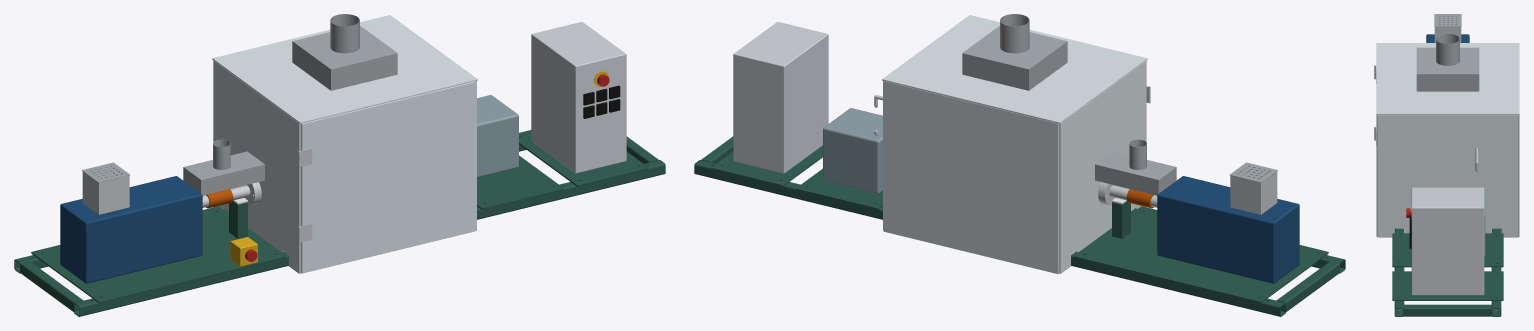
The picture shows the model from 3 angles, left to right: view 1: azimuth 30°, elevation 25°; view 2: azimuth 150°, elevation 25°; view 3: azimuth 270°, elevation 25°; orthographic projection. The views are drawn at different scales.
Parts seen in each view (by area): view 1: Door -Y, polycarbonate 6 mm, interlocked, Control panel enclosure, steel 400 x 300 x 200 (UL 508A prac, Enclosure roof, polycarbonate 6 mm with hood opening, Desktop single-screw extruder, 5/8 in screw (bought module), Enclosure panel -X end, polycarbonate 6 mm, P1 extruder plate, steel plate 6 mm, Base frame rail front, SHS 40 x 3, Exhaust hood, galvanised steel 1 mm folded, Linear diaphragm air pump, 200 NL/min at 20 kPa (Hiblow HP-2, P5 air pump plate, steel plate 6 mm, Extruder fume hood, galvanised steel 1 mm, branch to the exh, P6 control panel plate, steel plate 6 mm (+7 smaller); view 2: Enclosure panel back +Y, polycarbonate 6 mm, Control panel enclosure, steel 400 x 300 x 200 (UL 508A prac, Enclosure roof, polycarbonate 6 mm with hood opening, Desktop single-screw extruder, 5/8 in screw (bought module), Enclosure panel -X end, polycarbonate 6 mm, P1 extruder plate, steel plate 6 mm, Linear diaphragm air pump, 200 NL/min at 20 kPa (Hiblow HP-2, Base frame rail rear, SHS 40 x 3, Exhaust hood, galvanised steel 1 mm folded, Extruder fume hood, galvanised steel 1 mm, branch to the exh, Extruder feed hopper (part of the module), P6 control panel plate, steel plate 6 mm (+6 smaller); view 3: Enclosure panel +X end, polycarbonate 6 mm, Control panel enclosure, steel 400 x 300 x 200 (UL 508A prac, Enclosure roof, polycarbonate 6 mm with hood opening, Exhaust hood, galvanised steel 1 mm folded, P6 control panel plate, steel plate 6 mm, P5 air pump plate, steel plate 6 mm, Base frame cross member 5, SHS 40 x 3, Exhaust duct spigot, 100 mm, galvanised, Hopper lid with feed grille, perforated steel 2 mm, Extruder feed hopper (part of the module), Base frame rail front, SHS 40 x 3, Base frame rail rear, SHS 40 x 3 (+4 smaller).
Boxes of the visible parts, <box> form: Door -Y, polycarbonate 6 mm, interlocked: <box>301,81,475,273</box>; Control panel enclosure, steel 400 x 300 x 200 (UL 508A prac: <box>531,22,626,173</box>; Enclosure roof, polycarbonate 6 mm with hood opening: <box>212,15,477,123</box>; Desktop single-screw extruder, 5/8 in screw (bought module): <box>60,176,202,283</box>; Enclosure panel -X end, polycarbonate 6 mm: <box>213,61,300,273</box>; P1 extruder plate, steel plate 6 mm: <box>31,206,286,303</box>; Base frame rail front, SHS 40 x 3: <box>73,160,665,316</box>; Exhaust hood, galvanised steel 1 mm folded: <box>292,26,397,90</box>; Linear diaphragm air pump, 200 NL/min at 20 kPa (Hiblow HP-2: <box>477,95,518,177</box>; P5 air pump plate, steel plate 6 mm: <box>477,155,563,209</box>; Extruder fume hood, galvanised steel 1 mm, branch to the exh: <box>183,151,264,195</box>; P6 control panel plate, steel plate 6 mm: <box>519,130,648,186</box>; Enclosure panel back +Y, polycarbonate 6 mm: <box>883,81,1058,273</box>; Control panel enclosure, steel 400 x 300 x 200 (UL 508A prac: <box>733,22,828,173</box>; Enclosure roof, polycarbonate 6 mm with hood opening: <box>882,15,1147,123</box>; Desktop single-screw extruder, 5/8 in screw (bought module): <box>1157,176,1299,283</box>; Enclosure panel -X end, polycarbonate 6 mm: <box>1059,61,1146,273</box>; P1 extruder plate, steel plate 6 mm: <box>1073,206,1328,303</box>; Linear diaphragm air pump, 200 NL/min at 20 kPa (Hiblow HP-2: <box>823,108,882,193</box>; Base frame rail rear, SHS 40 x 3: <box>694,160,1286,316</box>; Exhaust hood, galvanised steel 1 mm folded: <box>962,26,1067,90</box>; Extruder fume hood, galvanised steel 1 mm, branch to the exh: <box>1095,151,1176,195</box>; Extruder feed hopper (part of the module): <box>1230,166,1277,214</box>; P6 control panel plate, steel plate 6 mm: <box>711,145,822,186</box>; Enclosure panel +X end, polycarbonate 6 mm: <box>1377,115,1517,237</box>; Control panel enclosure, steel 400 x 300 x 200 (UL 508A prac: <box>1411,187,1484,295</box>; Enclosure roof, polycarbonate 6 mm with hood opening: <box>1376,43,1519,114</box>; Exhaust hood, galvanised steel 1 mm folded: <box>1416,47,1479,91</box>; P6 control panel plate, steel plate 6 mm: <box>1392,271,1503,300</box>; P5 air pump plate, steel plate 6 mm: <box>1392,233,1503,267</box>; Base frame cross member 5, SHS 40 x 3: <box>1404,304,1491,316</box>; Exhaust duct spigot, 100 mm, galvanised: <box>1436,33,1459,65</box>; Hopper lid with feed grille, perforated steel 2 mm: <box>1434,14,1461,26</box>; Extruder feed hopper (part of the module): <box>1434,16,1461,42</box>; Base frame rail front, SHS 40 x 3: <box>1394,228,1404,316</box>; Base frame rail rear, SHS 40 x 3: <box>1491,228,1501,316</box>.
Size of the model in its own units: 2.28 by 0.746 by 0.6.
